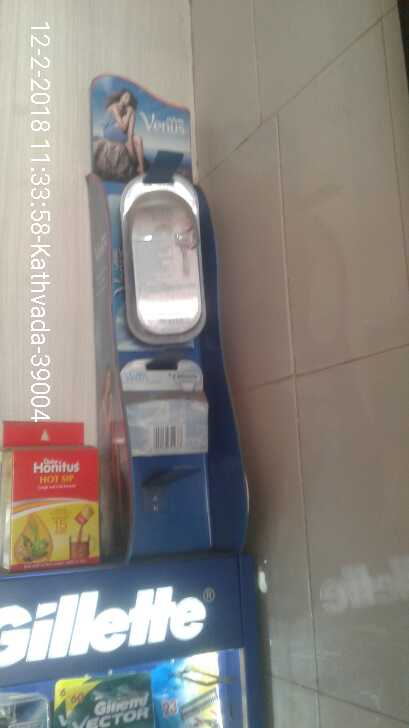reject: (314, 322, 362, 408)
